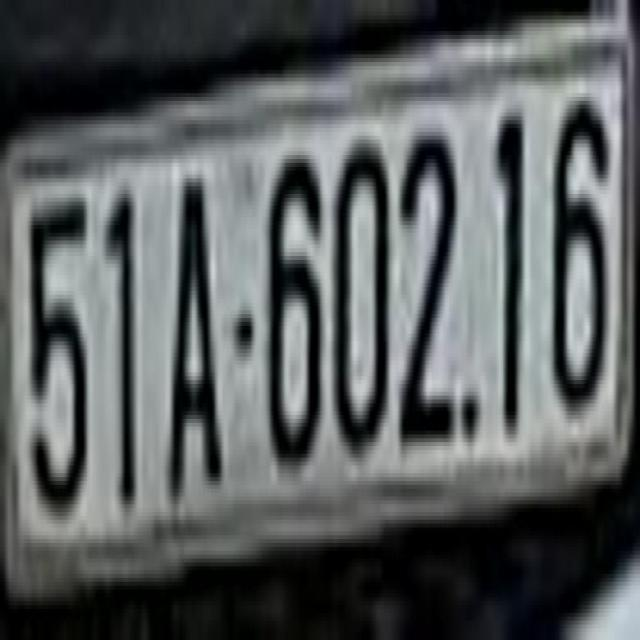0: (334, 124, 390, 512)
1: (490, 50, 528, 458), (104, 167, 140, 547)
2: (396, 117, 459, 470)
5: (28, 171, 94, 544)
6: (264, 132, 323, 504), (550, 62, 610, 419)
A: (160, 151, 227, 547)
